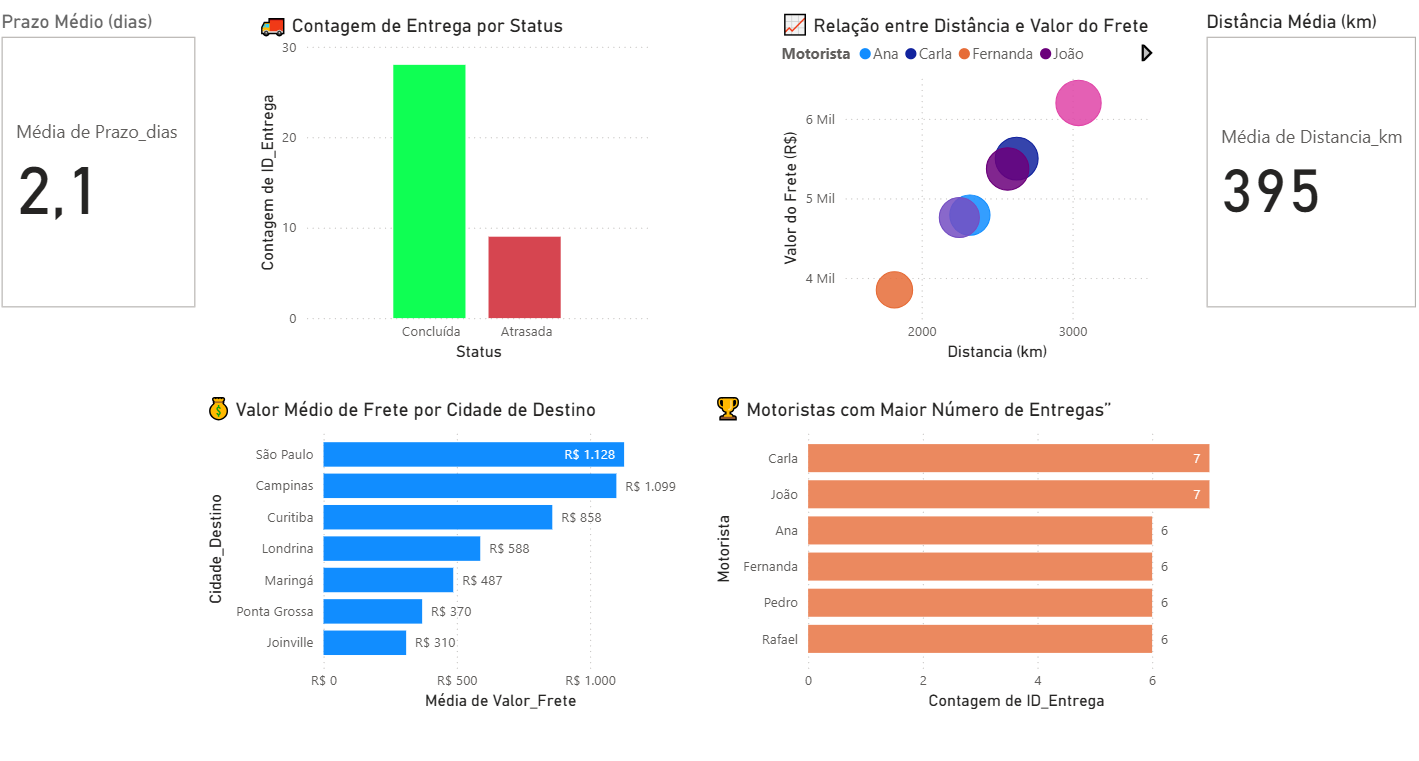

The dashboard page shown, as its layout file describes it:
{"tool":"powerbi","page":{"name":"Página 1","canvas":[1280,720],"ordinal":0},"visuals":[{"type":"columnChart","title":"🚚 Contagem de Entrega por Status","fields":{"Category":["entregas.Status"],"Y":["entregas.ID_Entrega"]},"box":[230.7,24.2,361.8,319.6],"z":0},{"type":"barChart","title":"💰 Valor Médio de Frete por Cidade de Destino","fields":{"Category":["entregas.Cidade_Destino"],"Y":["entregas.Valor_Frete"]},"box":[184,369,456.1,288.2],"z":1000},{"type":"barChart","title":"🏆 Motoristas com Maior Número de Entregas”","fields":{"Category":["entregas.Motorista"],"Y":["entregas.ID_Entrega"]},"box":[640.1,369,472.2,288.2],"z":2000},{"type":"scatterChart","title":"📈 Relação entre Distância e Valor do Frete","fields":{"X":["entregas.Distancia_km"],"Y":["entregas.Valor_Frete"],"Series":["entregas.Motorista"],"Size":["entregas.Valor_Frete"]},"box":[700.2,24.2,351.9,319.6],"z":3000},{"type":"cardVisual","title":"Prazo Médio (dias)","fields":{"Data":["entregas.Prazo_dias"]},"box":[0,24.2,184,272],"z":4000},{"type":"cardVisual","title":"Distância Média (km)","fields":{"Data":["entregas.Distancia_km"]},"box":[1081.8,24.2,198.4,272],"z":5000}]}

Visuals, with their boxes on the page's 1280x720 design canvas (x1, y1, x2, y2). These are canvas units, not pixel positions in the 1419x761 screenshot, which may show the page scaled, cropped or inside an application window:
"🚚 Contagem de Entrega por Status" columnChart: 231/24/592/344
"💰 Valor Médio de Frete por Cidade de Destino" barChart: 184/369/640/657
"🏆 Motoristas com Maior Número de Entregas”" barChart: 640/369/1112/657
"📈 Relação entre Distância e Valor do Frete" scatterChart: 700/24/1052/344
"Prazo Médio (dias)" cardVisual: 0/24/184/296
"Distância Média (km)" cardVisual: 1082/24/1280/296
